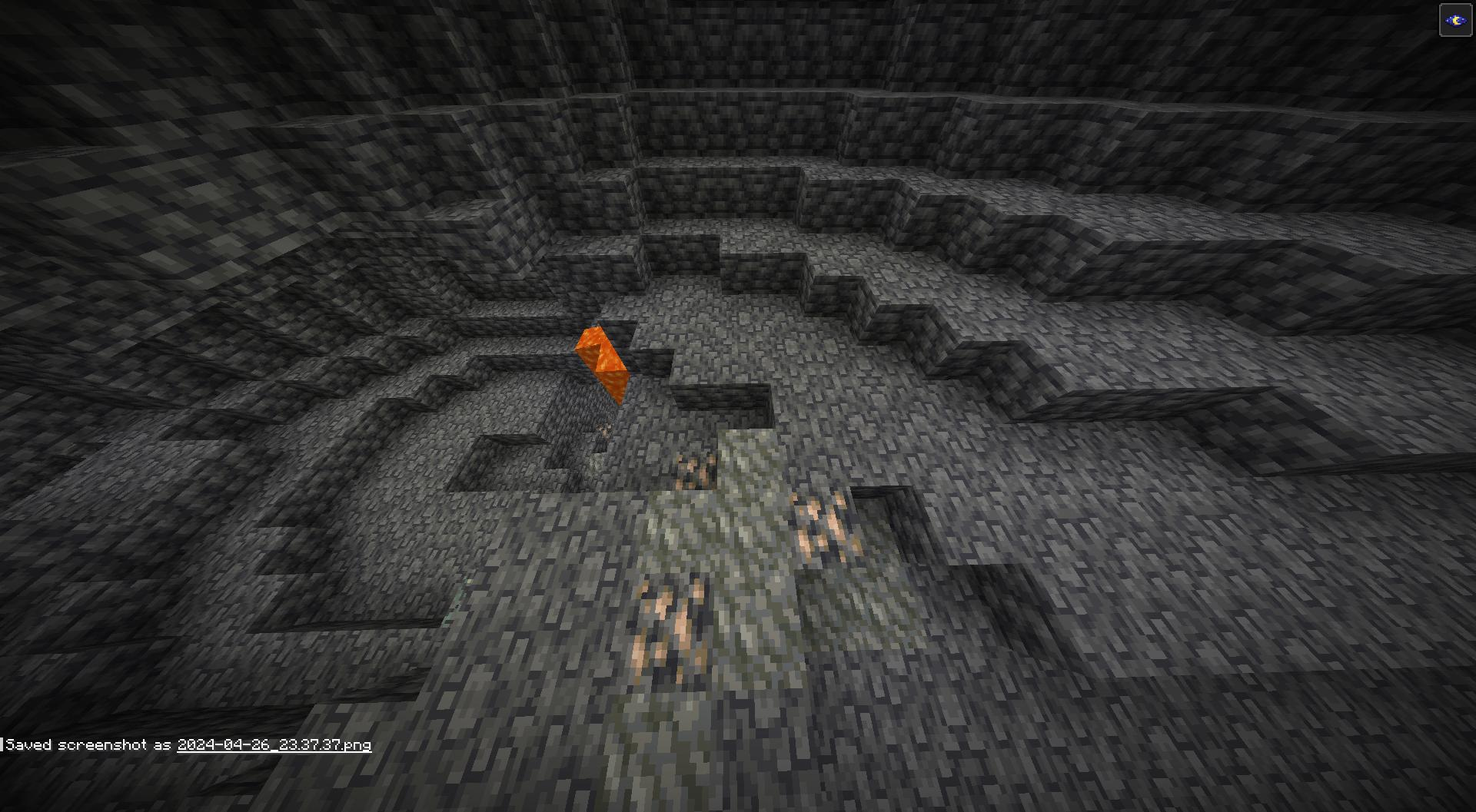iron ore: (624, 572, 719, 695), (791, 491, 865, 565), (671, 450, 718, 491), (595, 421, 616, 440)
